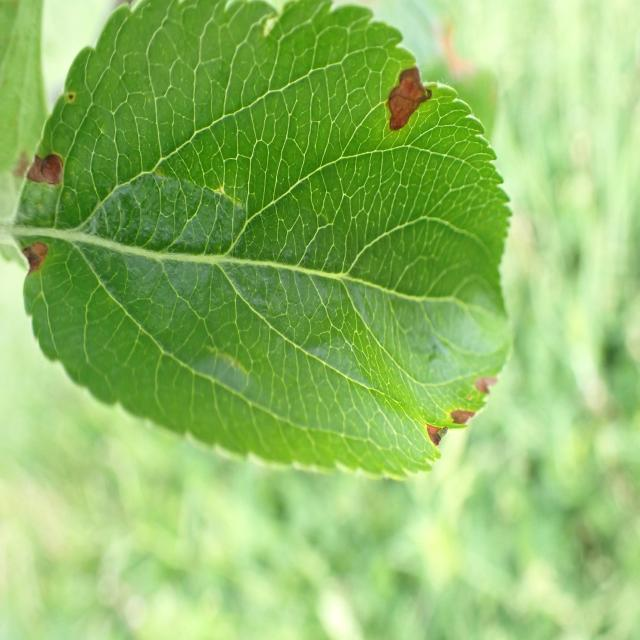Black Rot: (419, 366, 503, 478), (373, 46, 441, 154), (18, 136, 73, 202)
